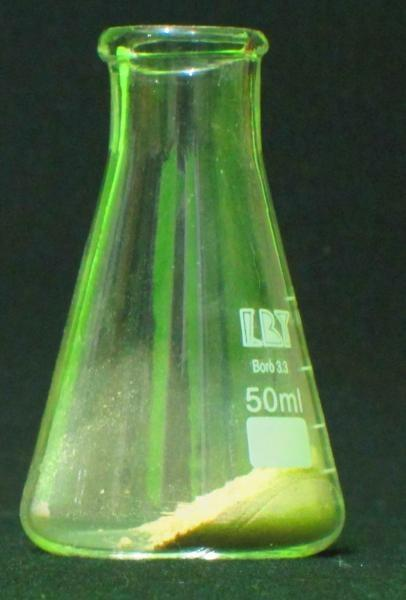Titrarion: (19, 18, 352, 559)
